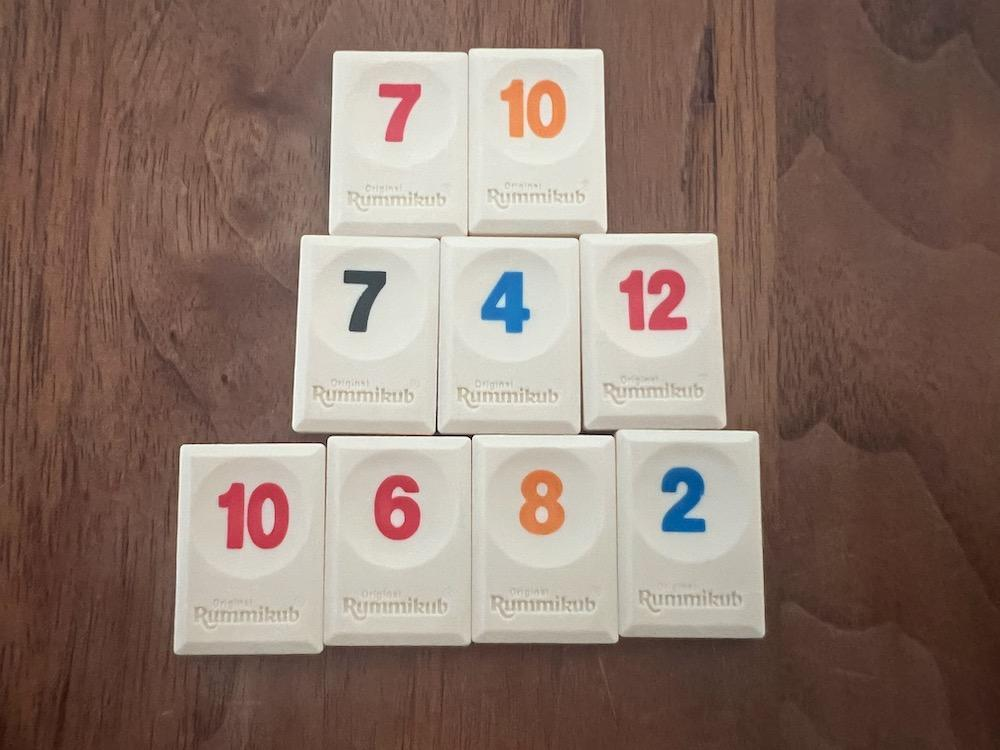black_7: (293, 236, 439, 434)
blue_2: (617, 430, 766, 637)
blue_4: (439, 238, 580, 432)
orange_10: (469, 49, 607, 236)
orange_8: (473, 436, 619, 643)
red_10: (174, 445, 324, 652)
red_12: (580, 234, 726, 430)
red_6: (324, 436, 471, 646)
red_7: (330, 51, 467, 238)
